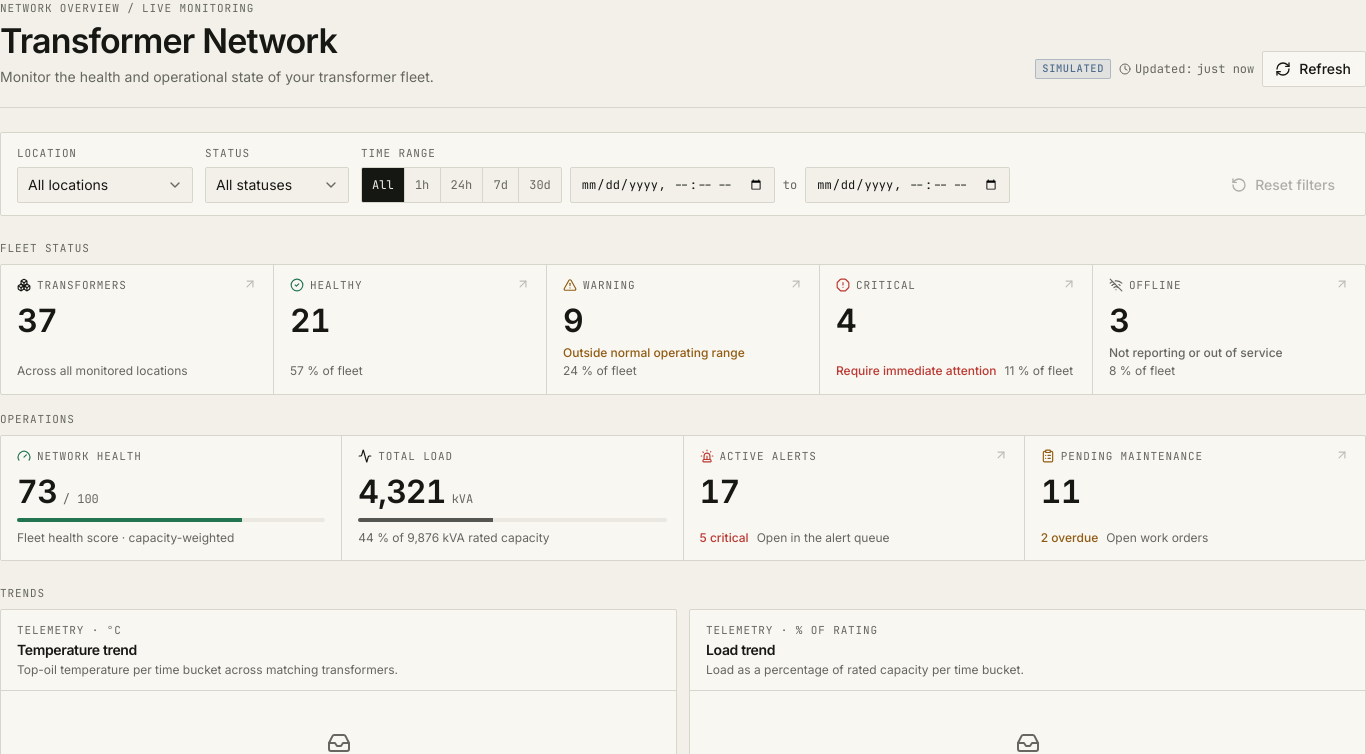
Test: DashboardPage › rejects a start time after the end time and keeps the applied range
expect the text "37" is shown: met, box [17,304,57,336]
Type "2026-01-01T10:00" into the 2nd field at {"x": 908, "y": 184}, box [805,166,1010,202]
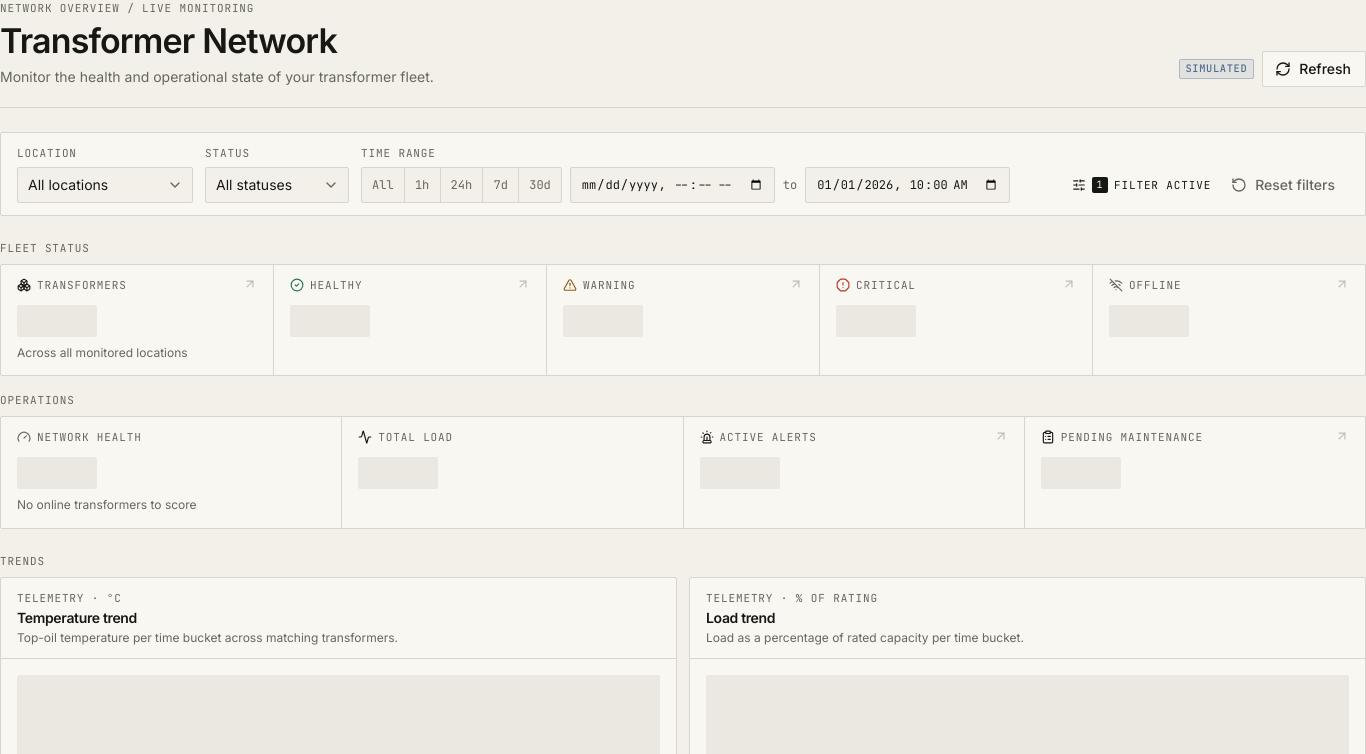
Type "2026-01-02T10:00" into the 1st field named "Start" at {"x": 672, "y": 184}, box [570,166,775,202]
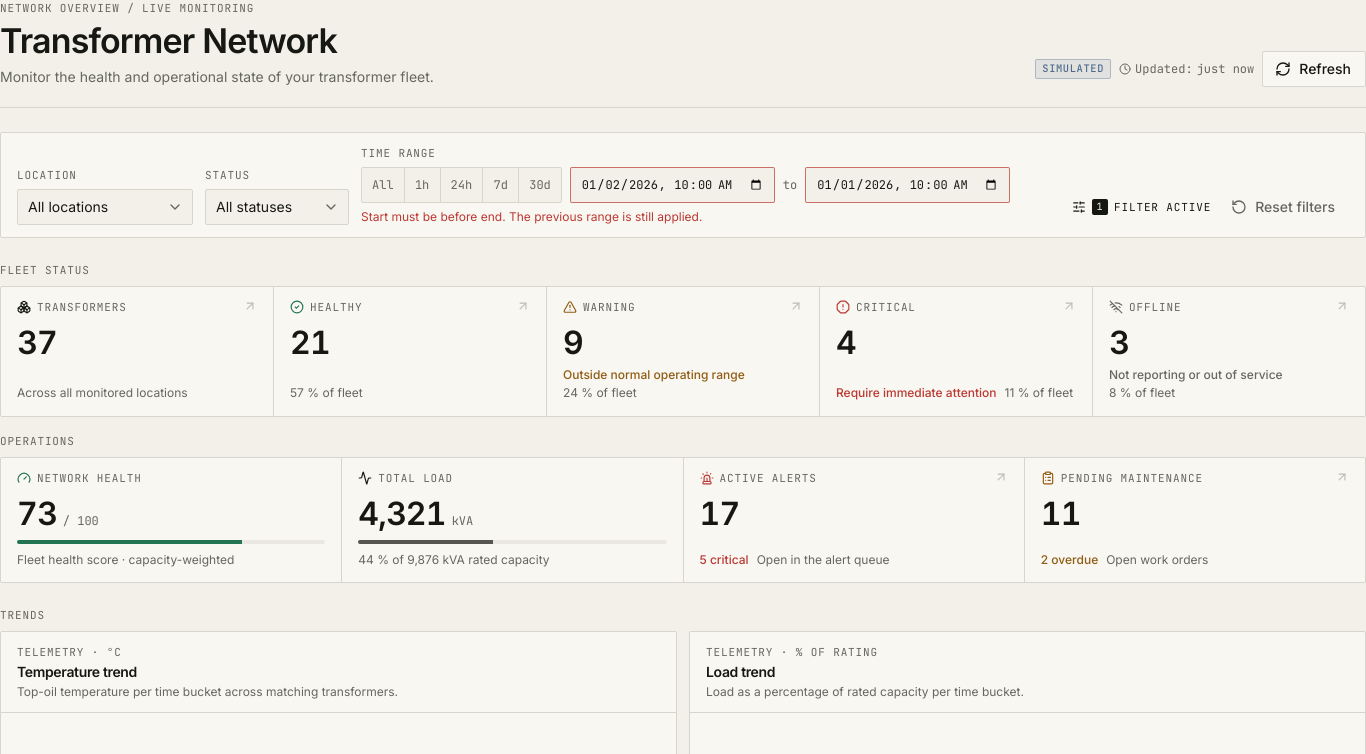
expect the message shows "Start must be before end.": met, box [361,208,506,224]
